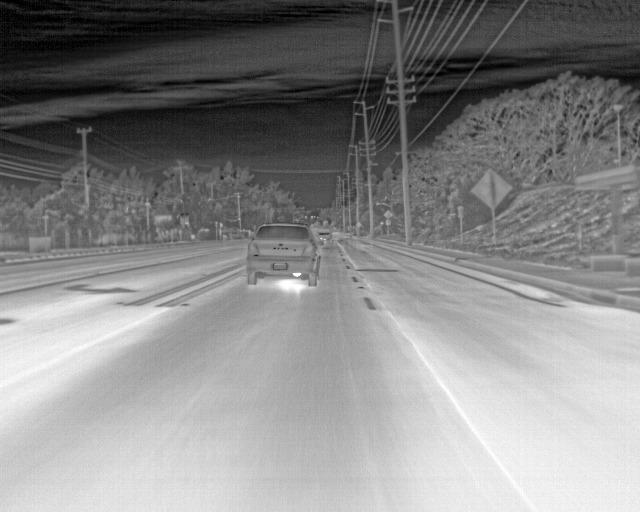car: (246, 222, 324, 286), (315, 232, 333, 250)
light: (305, 216, 307, 219), (311, 216, 313, 219), (317, 216, 318, 219)
sign: (472, 168, 514, 210), (179, 213, 189, 225), (458, 206, 464, 218), (384, 210, 392, 219), (386, 219, 391, 225), (220, 223, 223, 227), (314, 216, 316, 218)
